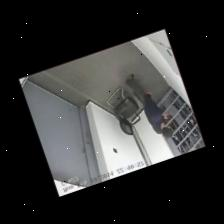person: (126, 74, 173, 137)
